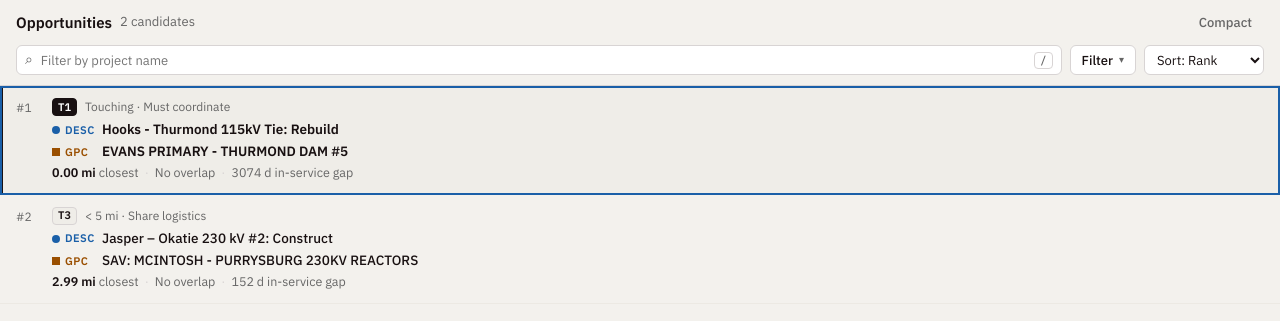
Test: queue: rows, keyboard selection and filter shortcut
Press ArrowDown in the option that starts with "Touching · Must coordinate", box [0,86,1279,195]
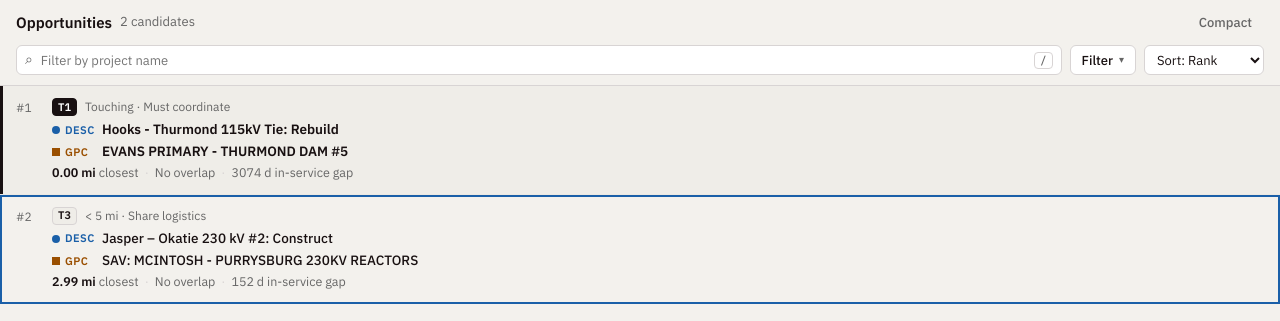
Press /
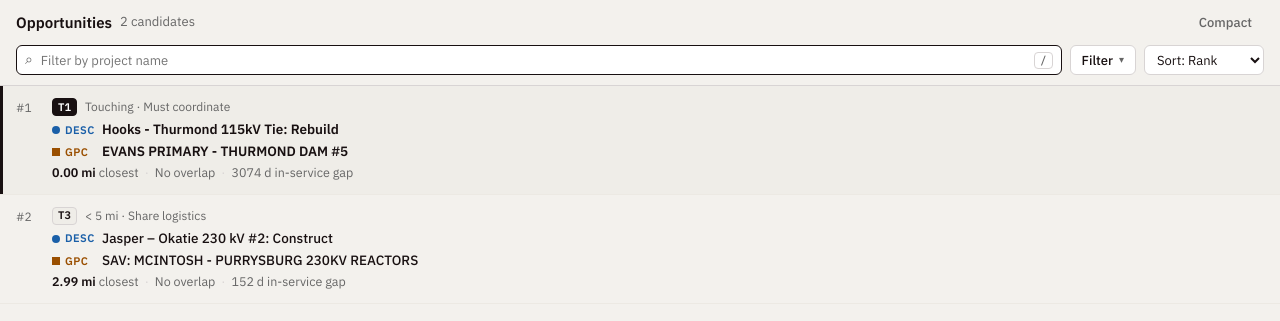
Type "purrysburg" into the search field at x=533, y=60, box [39,50,1028,70]
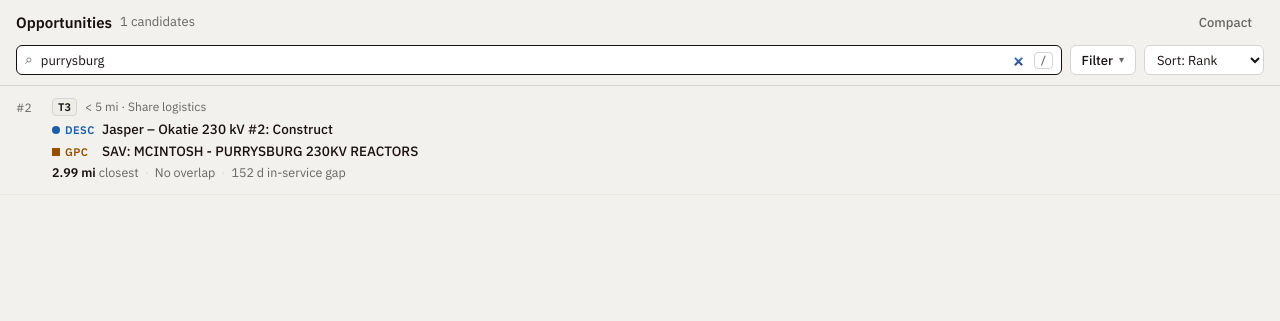
Expected: the number of options is 1, [0,86,1279,195]
